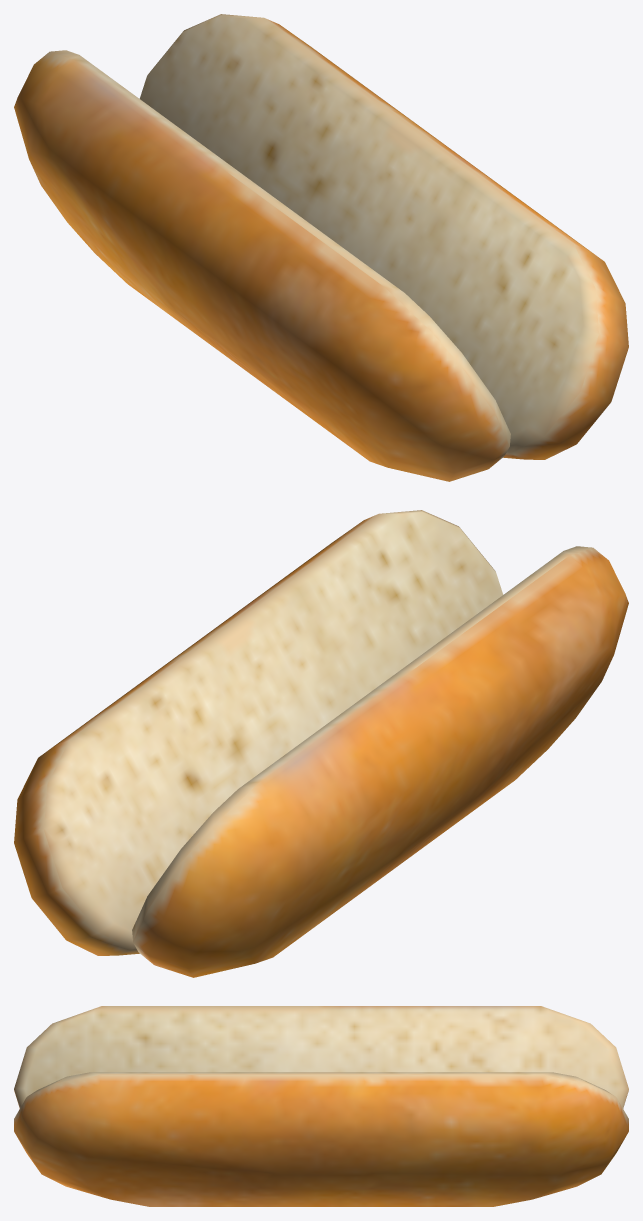
Rendered from hot_dog_bun.fbx.
3 renders of one model, top to bottom at view 1: azimuth 30°, elevation 25°; view 2: azimuth 150°, elevation 25°; view 3: azimuth 270°, elevation 25°, orthographic. The views are drawn at different scales.
Visible parts, largest first — view 1: hot_dog_bun; view 2: hot_dog_bun; view 3: hot_dog_bun.
Part boxes in pixels (x1,y1,x2,y2): hot_dog_bun: [14, 14, 628, 481]; hot_dog_bun: [14, 510, 628, 977]; hot_dog_bun: [14, 1006, 628, 1206].
Size of the model in its own units: 7.19 by 4.74 by 18.
1 material, 1 textured.
